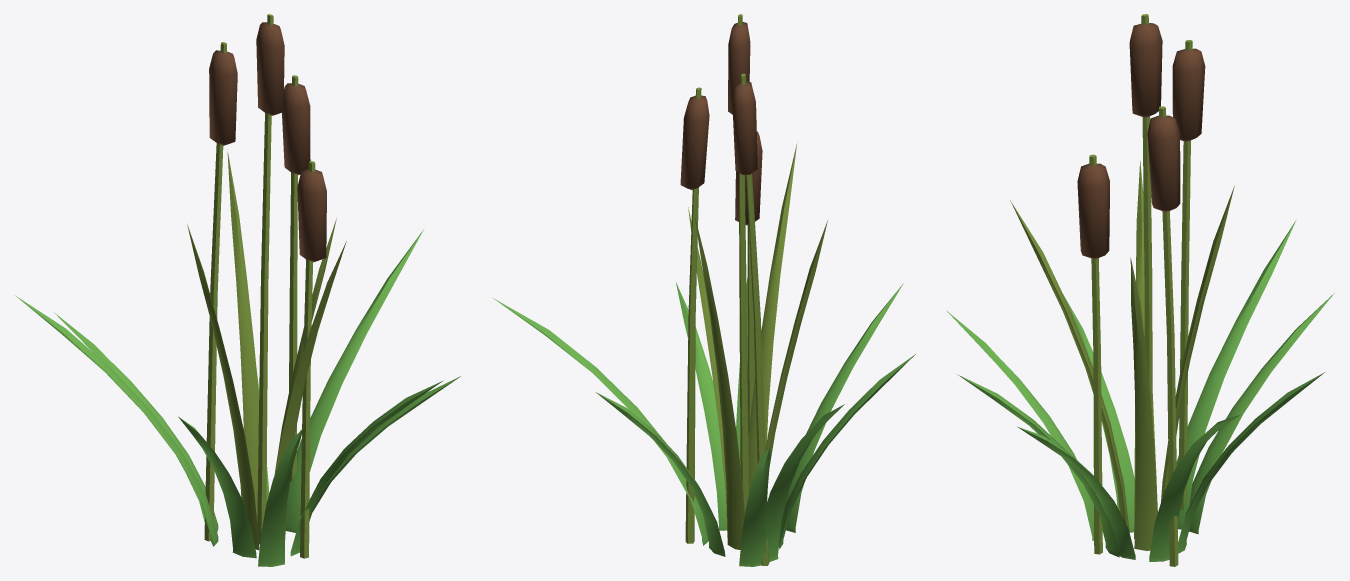
Rendered from Pixor_reeds.glb.
3 renders of one model, left to right at view 1: azimuth 30°, elevation 25°; view 2: azimuth 150°, elevation 25°; view 3: azimuth 270°, elevation 25°, orthographic.
Visible parts, largest first — view 1: Reeds; view 2: Reeds; view 3: Reeds.
Boxes of the visible parts, left/top/right/bottom form: Reeds: left=15, top=14, right=460, bottom=566; Reeds: left=492, top=14, right=915, bottom=566; Reeds: left=947, top=14, right=1334, bottom=566.
Bounding box in the file's own units: 1.07 × 1.4 × 0.9304.
